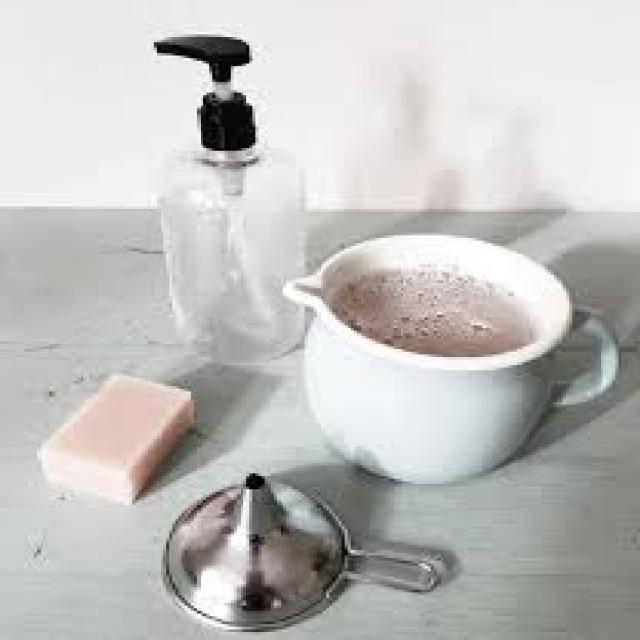liquid soap: (145, 25, 312, 357)
